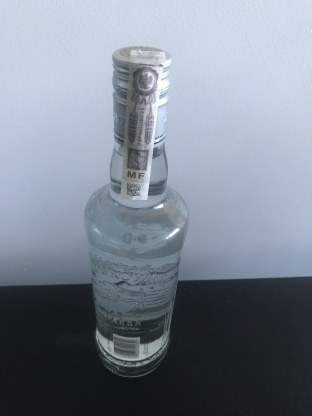nakretka: (108, 41, 173, 149)
